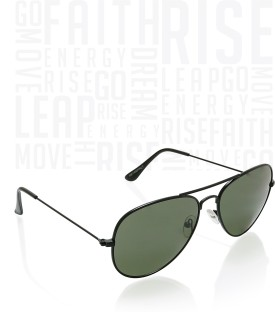sunglasses: (12, 117, 273, 283)
